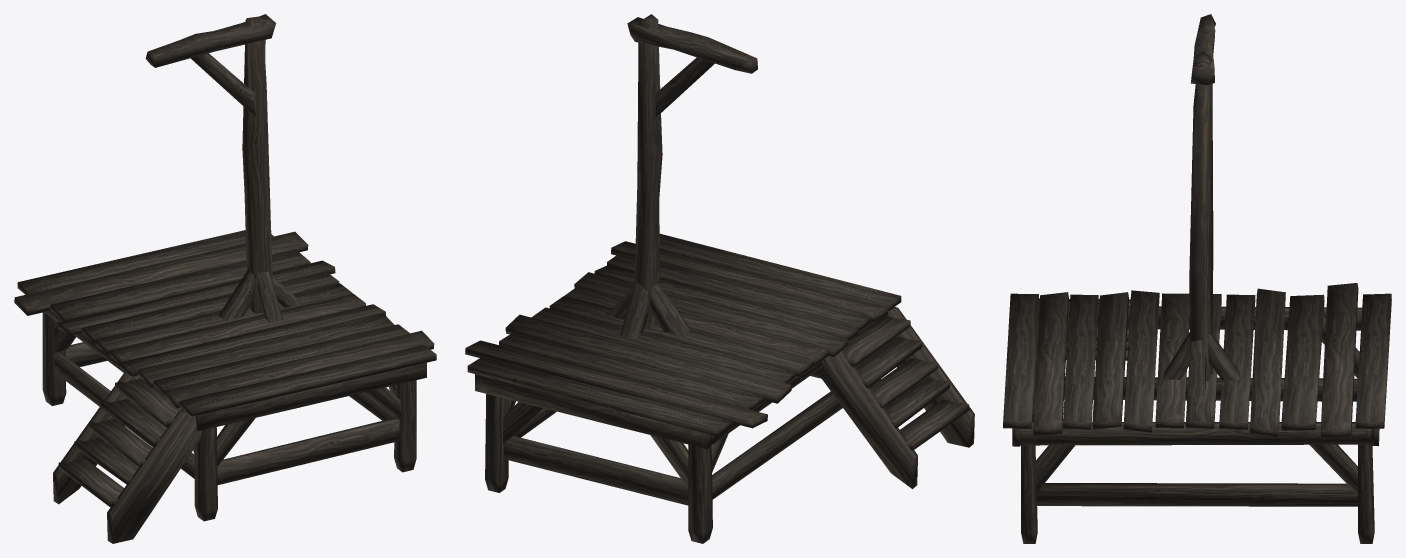
File: Galgen.fbx
3 renders of one model, left to right at view 1: azimuth 30°, elevation 25°; view 2: azimuth 150°, elevation 25°; view 3: azimuth 270°, elevation 25°, orthographic. The views are drawn at different scales.
Visible parts, largest first — view 1: galgen; view 2: galgen; view 3: galgen.
Part boxes in pixels (box(x1,y1,x2,y2)): galgen: box(14, 14, 436, 543); galgen: box(465, 14, 974, 543); galgen: box(1003, 14, 1391, 543).
Bounding box in the file's own units: 8.4 × 9.92 × 7.78.
